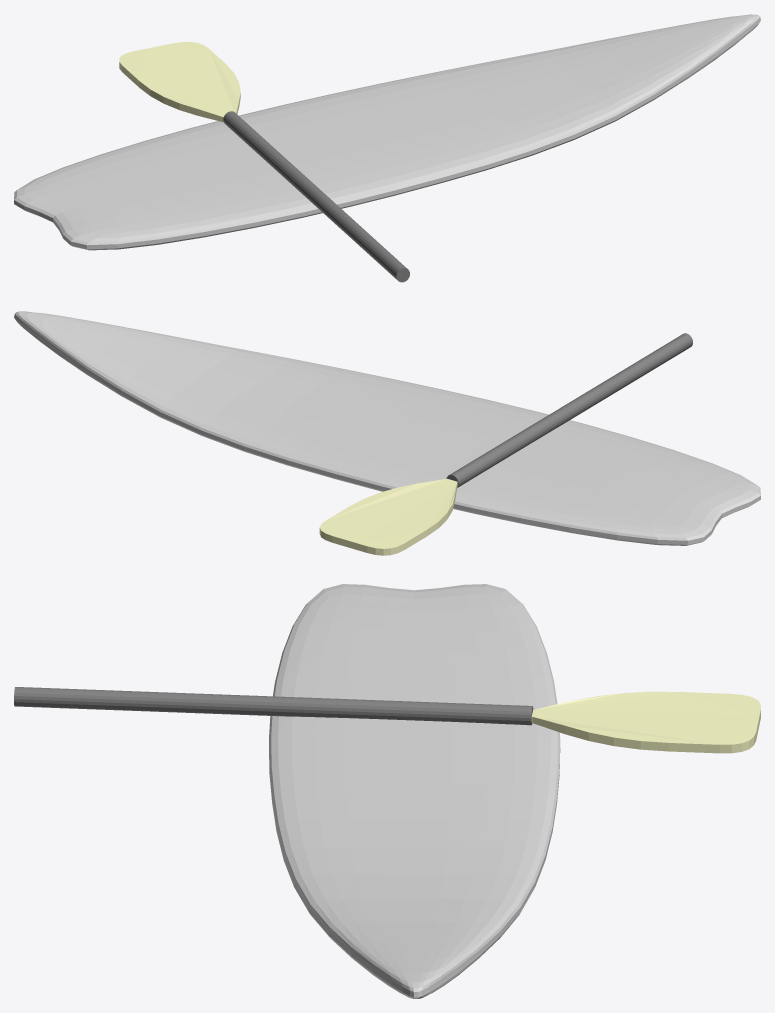
The model's file is Paddle.gltf.
3 renders of one model, top to bottom at view 1: azimuth 30°, elevation 25°; view 2: azimuth 150°, elevation 25°; view 3: azimuth 270°, elevation 25°, orthographic. The views are drawn at different scales.
Parts seen in each view (by area): view 1: Mesh1 skpdkbCrd1 Paddle1 Model, Mesh4 skpU5oj6d1 Paddle1 Model, Mesh3 skpU5oj6d1 Paddle1 Model; view 2: Mesh1 skpdkbCrd1 Paddle1 Model, Mesh4 skpU5oj6d1 Paddle1 Model, Mesh3 skpU5oj6d1 Paddle1 Model; view 3: Mesh1 skpdkbCrd1 Paddle1 Model, Mesh4 skpU5oj6d1 Paddle1 Model, Mesh3 skpU5oj6d1 Paddle1 Model.
Part boxes in pixels (left/top/right/bottom): Mesh1 skpdkbCrd1 Paddle1 Model: left=14, top=14, right=760, bottom=250; Mesh4 skpU5oj6d1 Paddle1 Model: left=119, top=42, right=240, bottom=122; Mesh3 skpU5oj6d1 Paddle1 Model: left=223, top=111, right=409, bottom=282; Mesh1 skpdkbCrd1 Paddle1 Model: left=14, top=311, right=760, bottom=545; Mesh4 skpU5oj6d1 Paddle1 Model: left=319, top=478, right=457, bottom=555; Mesh3 skpU5oj6d1 Paddle1 Model: left=446, top=333, right=692, bottom=487; Mesh1 skpdkbCrd1 Paddle1 Model: left=269, top=584, right=560, bottom=998; Mesh4 skpU5oj6d1 Paddle1 Model: left=531, top=691, right=760, bottom=753; Mesh3 skpU5oj6d1 Paddle1 Model: left=14, top=687, right=533, bottom=725.
Bounding box in the file's own units: 1567 × 86.4 × 1112.
